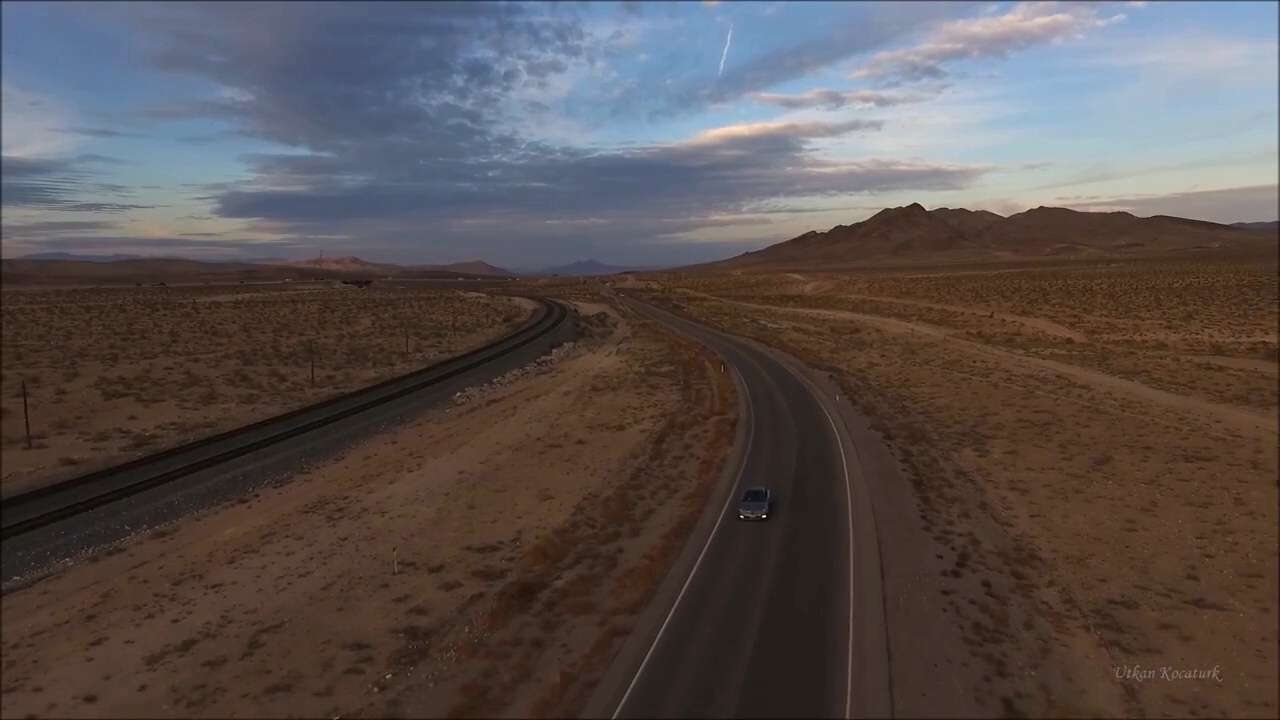araba: (734, 487, 775, 522)
